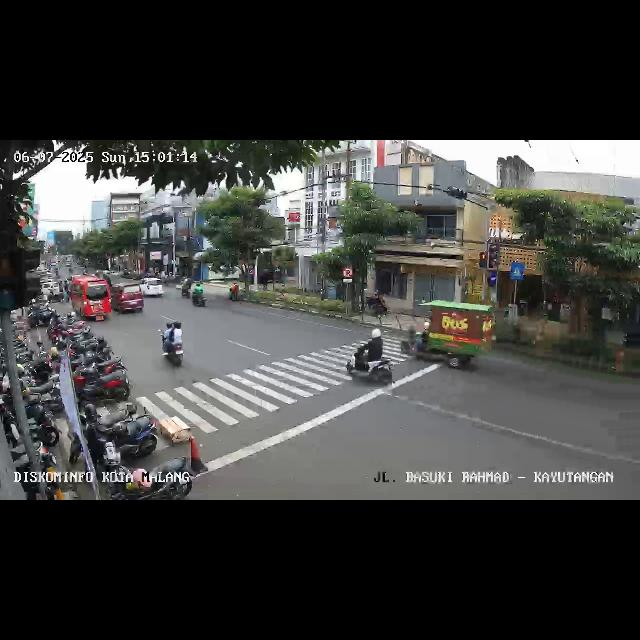car: (410, 304, 494, 370), (69, 276, 111, 322), (112, 286, 144, 316)
motorcycle: (342, 328, 393, 386), (160, 320, 187, 370), (192, 284, 206, 308)
